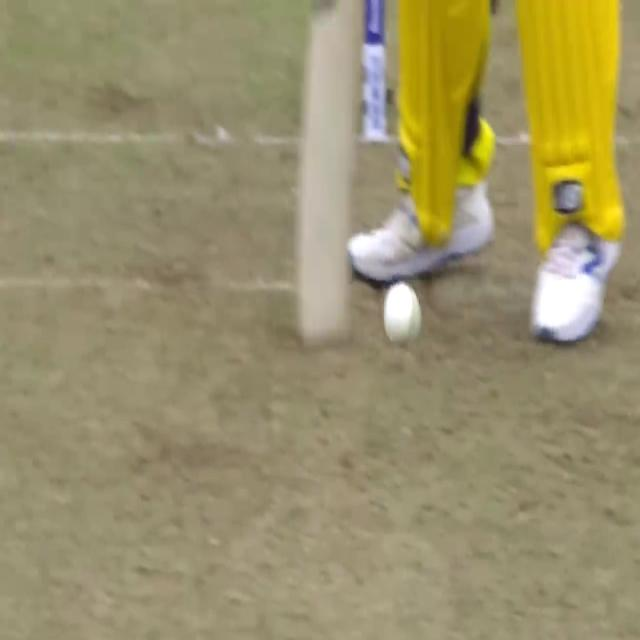ball: (378, 276, 430, 358)
